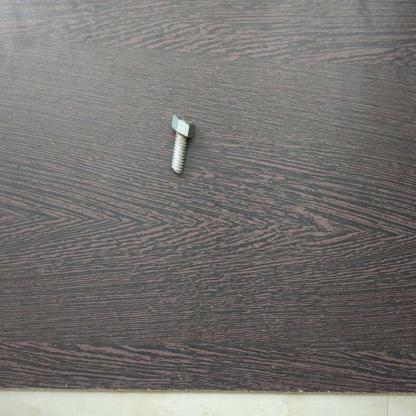Bolts: (169, 106, 200, 184)
